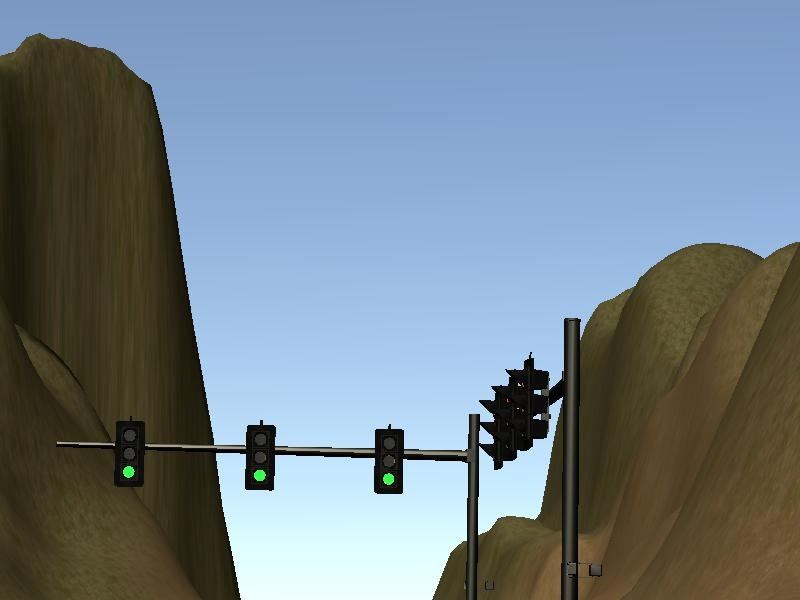green: (369, 432, 406, 497), (245, 421, 278, 491), (115, 421, 142, 485)
